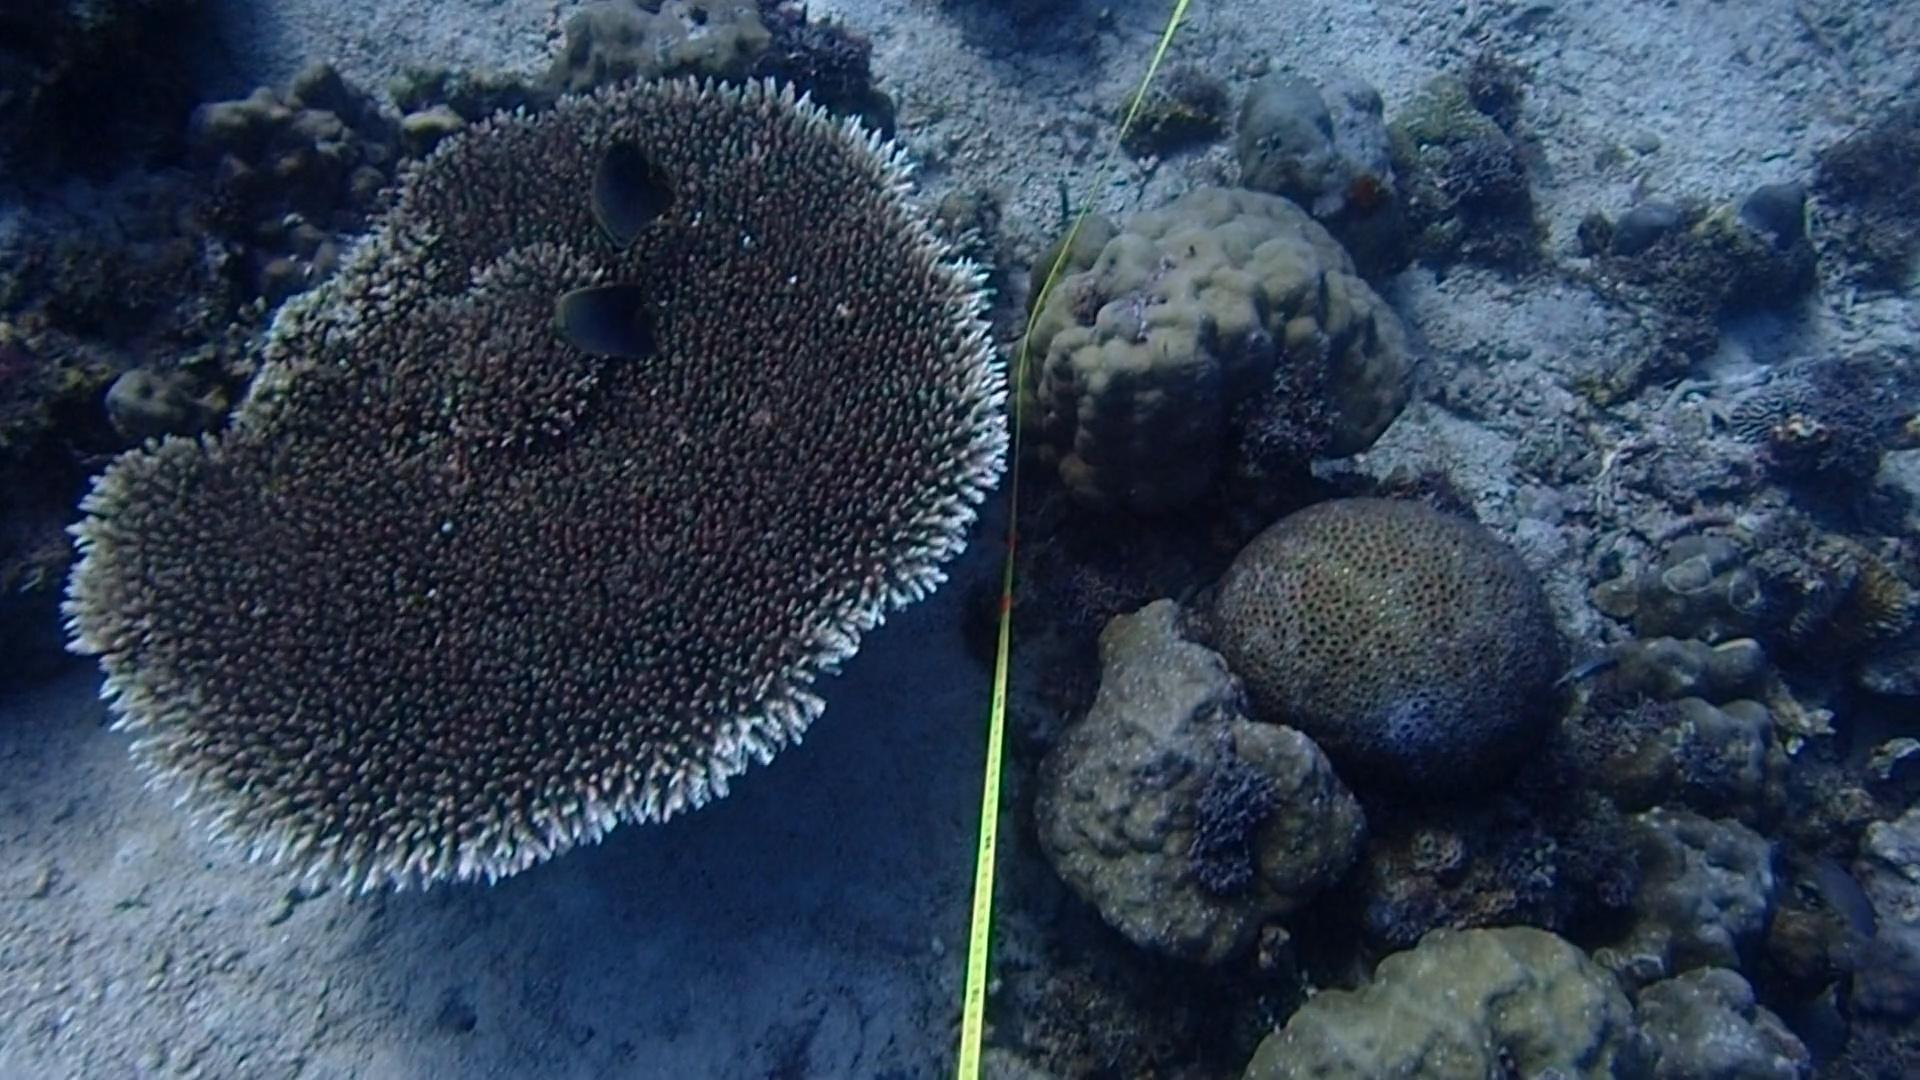Dark Blue Dory: (574, 127, 679, 255), (535, 268, 671, 367)
Light Fish: (1543, 645, 1635, 703)
